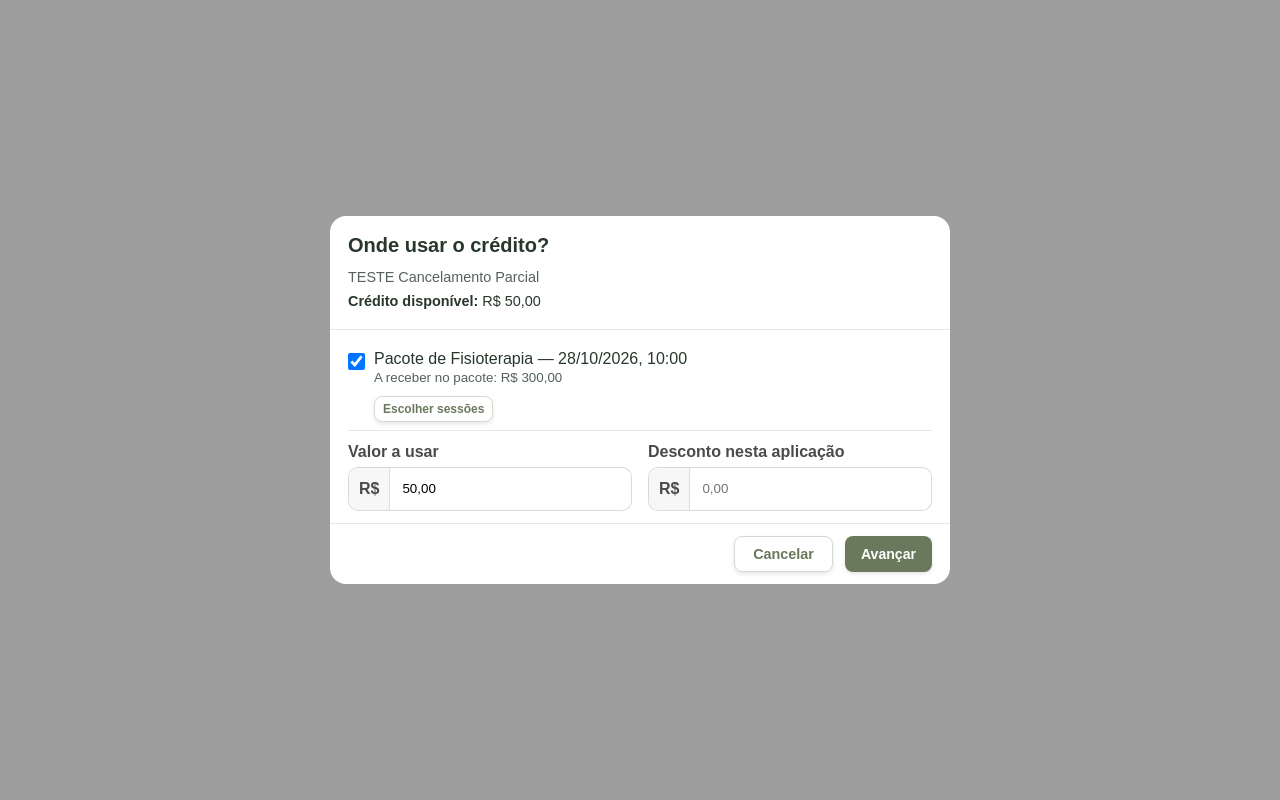
it: consulta o servidor, seleciona somente grupo único e expande sessões na mesma janela
Expected: the checkbox labelled "Pacote de Fisioterapia" is checked, [348,353,365,370]
Expected: the field labelled "Valor a usar" holds "50,00", [390,472,631,506]
Click the button "Escolher sessões" at [434, 409], box [374,396,493,422]
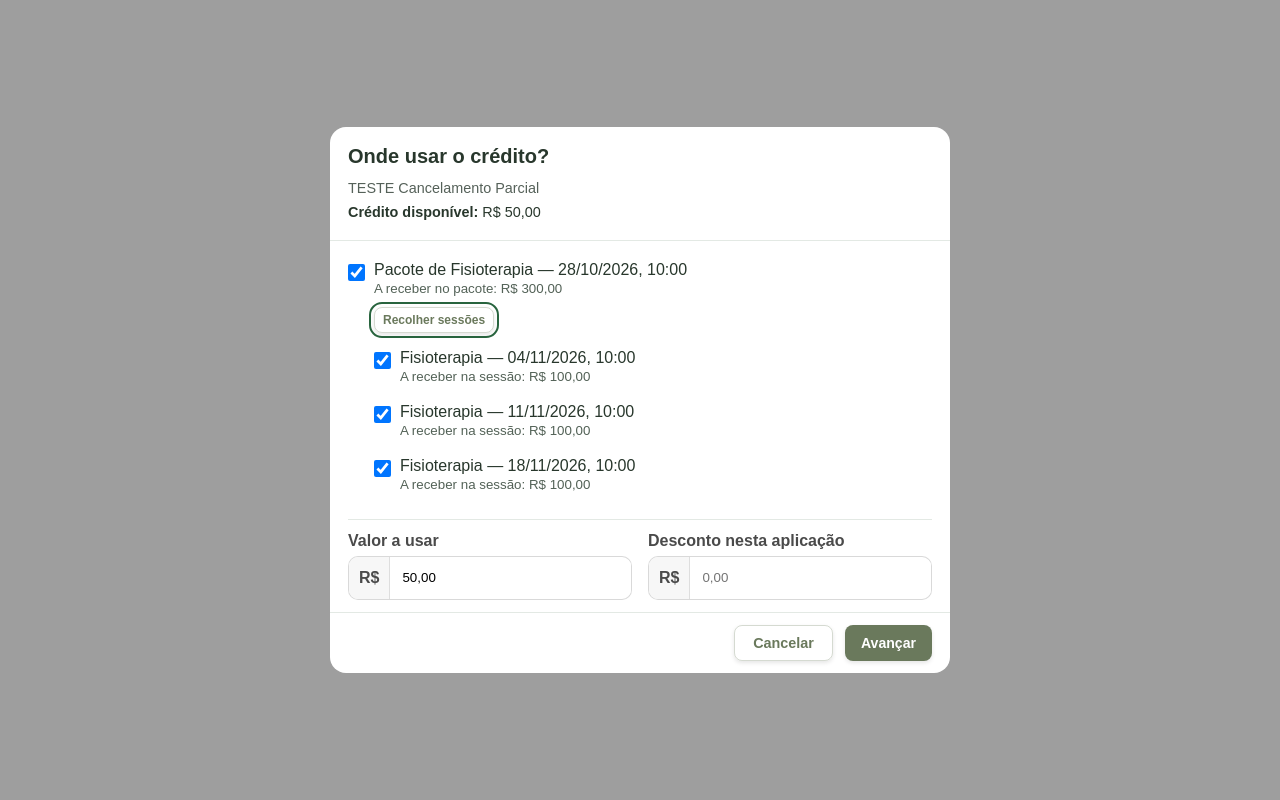
Expected: the number of dialogs is 1, [330,127,950,673]
Now the checkbox labelled "04/11/2026, 10:00" is checked, box [374,352,391,369]
